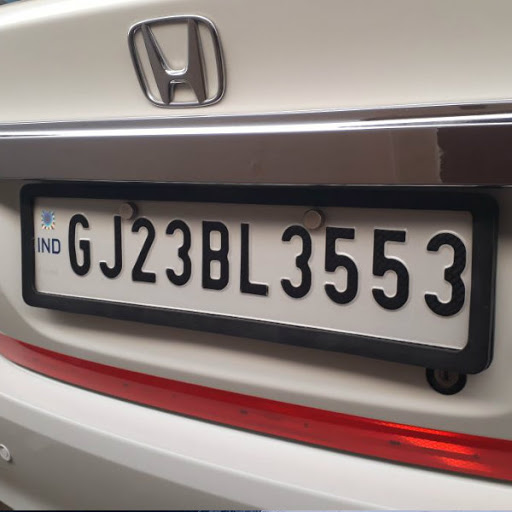numberplate: (20, 178, 493, 375)
